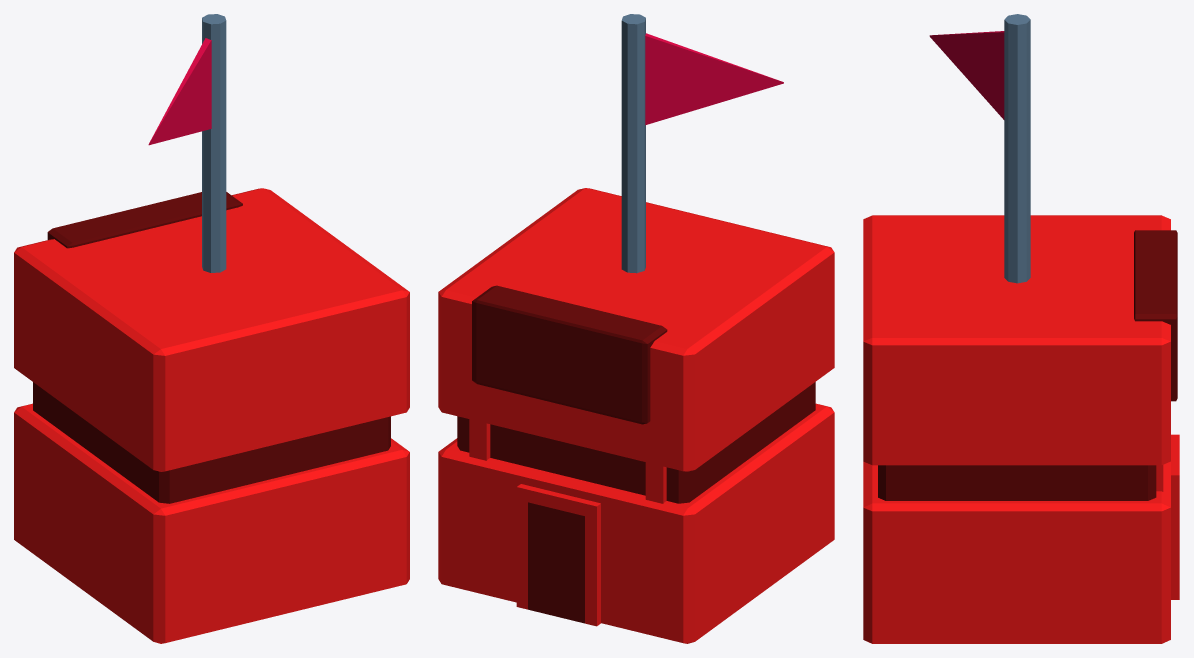
The model's file is opponent.fbx.
3 renders of one model, left to right at view 1: azimuth 30°, elevation 25°; view 2: azimuth 150°, elevation 25°; view 3: azimuth 270°, elevation 25°, orthographic. The views are drawn at different scales.
Visible parts, largest first — view 1: Cube.001, Cube, Cube.002, Cylinder, Cube.003, flag; view 2: Cube.001, Cube, Cube.003, Cube.004, Cube.002, flag, Cylinder, Cube.006, Cube.005; view 3: Cube.001, Cube, Cube.002, Cylinder, Cube.003, flag, Cube.004.
Boxes of the visible parts, x1,y1,x2,y2 form: Cube.001: [14, 188, 409, 471]; Cube: [14, 403, 409, 643]; Cube.002: [33, 382, 390, 503]; Cylinder: [202, 14, 226, 272]; Cube.003: [47, 192, 242, 248]; flag: [148, 38, 211, 145]; Cube.001: [438, 188, 834, 471]; Cube: [438, 403, 834, 643]; Cube.003: [472, 285, 667, 424]; Cube.004: [516, 484, 600, 626]; Cube.002: [457, 382, 815, 503]; flag: [645, 33, 783, 125]; Cylinder: [621, 14, 645, 273]; Cube.006: [645, 462, 666, 503]; Cube.005: [469, 419, 490, 460]; Cube.001: [863, 215, 1170, 465]; Cube: [863, 461, 1170, 643]; Cube.002: [878, 465, 1156, 500]; Cylinder: [1004, 14, 1030, 283]; Cube.003: [1134, 230, 1177, 401]; flag: [929, 31, 1004, 119]; Cube.004: [1171, 434, 1179, 599].
Bounding box in the file's own units: 253 × 512 × 260.
